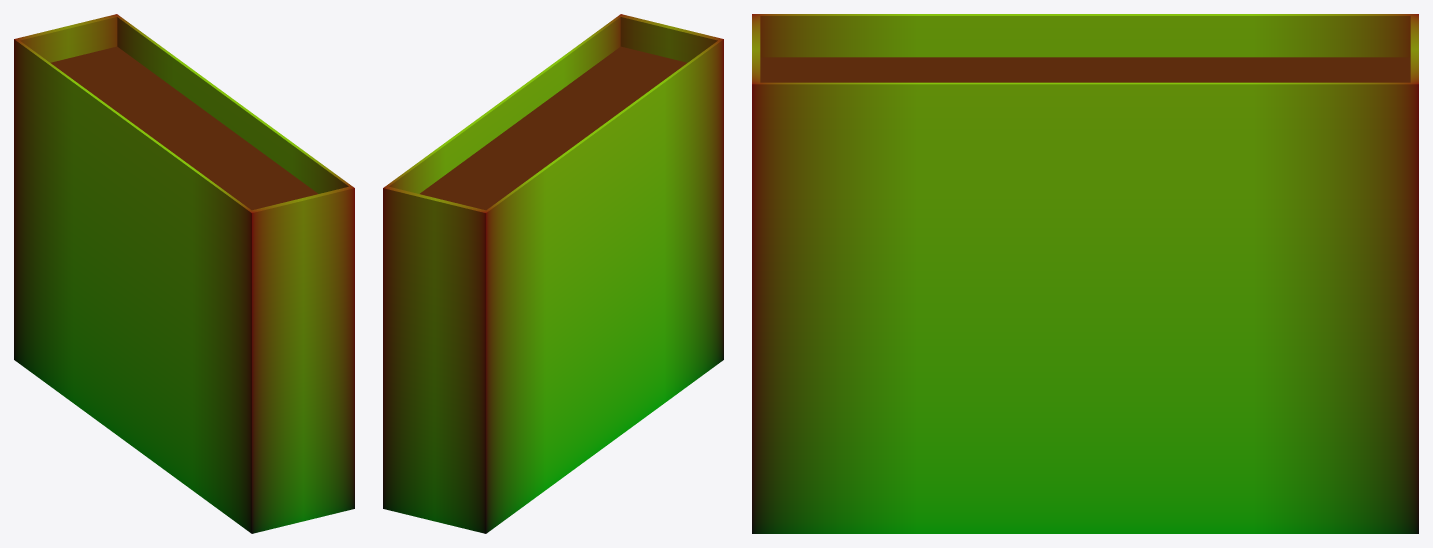
Rendered from nha_ong_4x16.far.glb.
The picture shows the model from 3 angles, left to right: view 1: azimuth 30°, elevation 25°; view 2: azimuth 150°, elevation 25°; view 3: azimuth 270°, elevation 25°; orthographic projection. The views are drawn at different scales.
Parts seen in each view (by area): view 1: nha_ong_4x16; view 2: nha_ong_4x16; view 3: nha_ong_4x16.
Boxes of the visible parts, x1,y1,x2,y2 form: nha_ong_4x16: (14, 14, 354, 533); nha_ong_4x16: (383, 14, 723, 533); nha_ong_4x16: (752, 14, 1418, 533).
Size of what is drawn, in the model's own units: 4 by 11.9 by 16.
